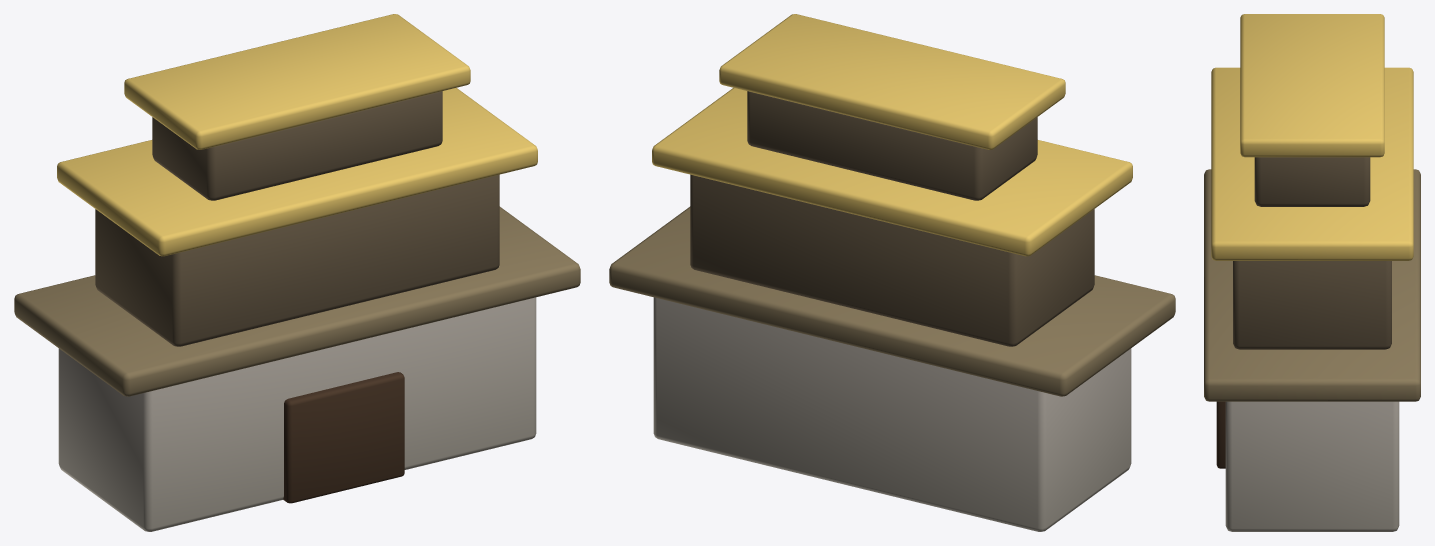
The picture shows the model from 3 angles, left to right: view 1: azimuth 30°, elevation 25°; view 2: azimuth 150°, elevation 25°; view 3: azimuth 270°, elevation 25°; orthographic projection. The views are drawn at different scales.
Visible parts, largest first — view 1: landmark_0f512ad9; view 2: landmark_0f512ad9; view 3: landmark_0f512ad9.
Boxes of the visible parts, <box> form: landmark_0f512ad9: <box>14,14,580,531</box>; landmark_0f512ad9: <box>609,14,1175,531</box>; landmark_0f512ad9: <box>1204,14,1420,531</box>.
Size of the model in its own units: 7 by 5.59 by 3.
